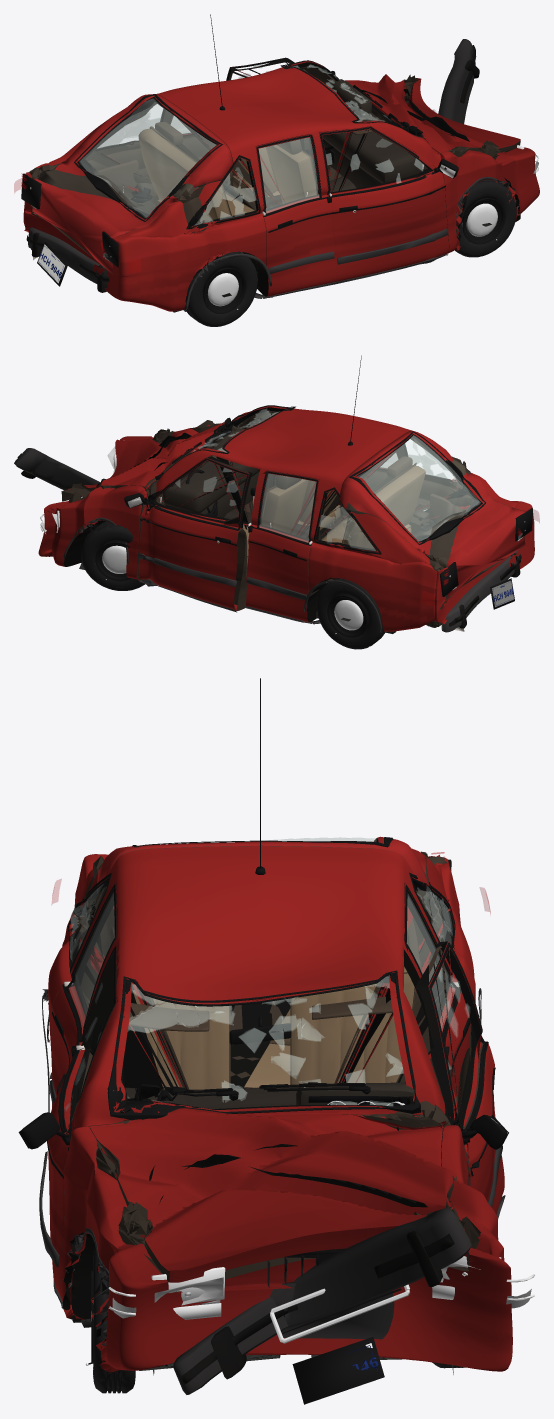
The model's file is hatchback85_front_d2_lod1.glb.
3 views of the same model, one above another, from view 1: azimuth 30°, elevation 25°; view 2: azimuth 150°, elevation 25°; view 3: azimuth 270°, elevation 25° (orthographic). The views are drawn at different scales.
Parts seen in each view (by area): view 1: Body, Interior, Hatch, Door_FR, Glass_Hatch, Door_RR, Hood, Wheel_RR_mesh, Wheel_FR_mesh, Glass_RR, Glass, Trim_FR (+8 smaller); view 2: Body, Interior, Door_FL, Hatch, Glass_Hatch, Door_RL, Hood, Wheel_RL_mesh, Glass_RL, Wheel_FL_mesh, Glass, Trim_FL (+7 smaller); view 3: Body, Hood, Interior, Bumper_F, Glass, Ends, Door_FL, Door_FR, Trim, Door_RR, Trim_FR, Trim_FL (+8 smaller).
Boxes of the visible parts, x1=… form: Body: x1=23, y1=61, x2=539, y2=311; Interior: x1=98, y1=69, x2=424, y2=222; Hatch: x1=32, y1=94, x2=233, y2=273; Door_FR: x1=319, y1=126, x2=448, y2=281; Glass_Hatch: x1=74, y1=94, x2=222, y2=221; Door_RR: x1=255, y1=134, x2=336, y2=296; Hood: x1=348, y1=74, x2=520, y2=154; Wheel_RR_mesh: x1=184, y1=251, x2=257, y2=326; Wheel_FR_mesh: x1=454, y1=180, x2=516, y2=257; Glass_RR: x1=256, y1=137, x2=321, y2=213; Glass: x1=97, y1=60, x2=428, y2=228; Trim_FR: x1=320, y1=127, x2=458, y2=284; Body: x1=38, y1=406, x2=534, y2=631; Interior: x1=161, y1=413, x2=465, y2=580; Door_FL: x1=138, y1=456, x2=252, y2=610; Hatch: x1=339, y1=430, x2=525, y2=598; Glass_Hatch: x1=349, y1=431, x2=485, y2=544; Door_RL: x1=246, y1=470, x2=319, y2=622; Hood: x1=61, y1=423, x2=224, y2=501; Wheel_RL_mesh: x1=316, y1=578, x2=385, y2=649; Glass_RL: x1=257, y1=472, x2=318, y2=542; Wheel_FL_mesh: x1=81, y1=521, x2=144, y2=590; Glass: x1=155, y1=405, x2=456, y2=553; Trim_FL: x1=124, y1=458, x2=248, y2=612; Body: x1=48, y1=846, x2=512, y2=1372; Hood: x1=89, y1=1108, x2=467, y2=1282; Interior: x1=109, y1=919, x2=421, y2=1108; Bumper_F: x1=173, y1=1207, x2=471, y2=1394; Glass: x1=68, y1=877, x2=452, y2=1120; Ends: x1=108, y1=859, x2=534, y2=1404; Door_FL: x1=416, y1=941, x2=504, y2=1214; Door_FR: x1=48, y1=944, x2=117, y2=1300; Trim: x1=42, y1=678, x2=481, y2=1346; Door_RR: x1=52, y1=882, x2=117, y2=1107; Trim_FR: x1=18, y1=946, x2=116, y2=1308; Trim_FL: x1=429, y1=942, x2=508, y2=1219.
Size of the model in its own units: 3.99 by 2.14 by 2.01.
Materials: 32 (5 with a texture image).
